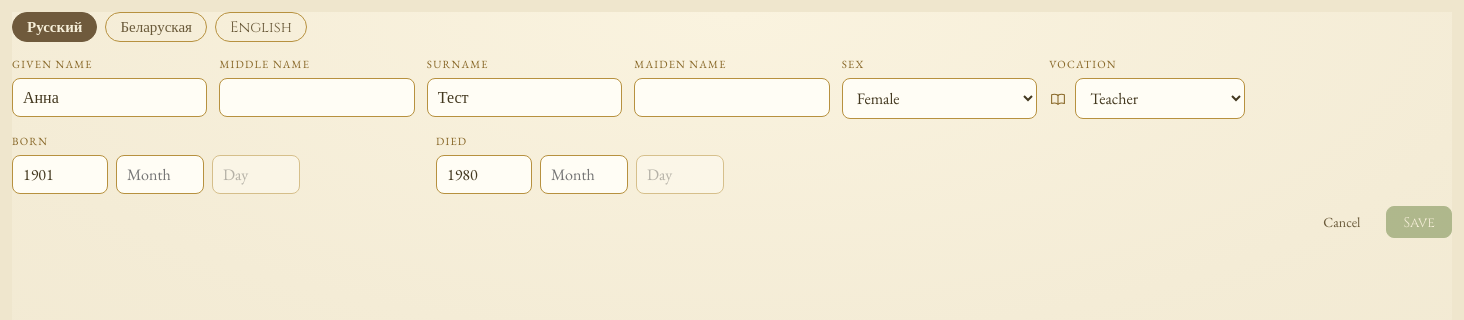
Test: MemberFieldsEditor › Save is disabled until a field is dirty
Expected: the button with test id "fields-save" is disabled, [1386,206,1452,238]
Replace the text in the number field with test id "field-birthYear" with "1902": (60, 174) [12,155,108,194]
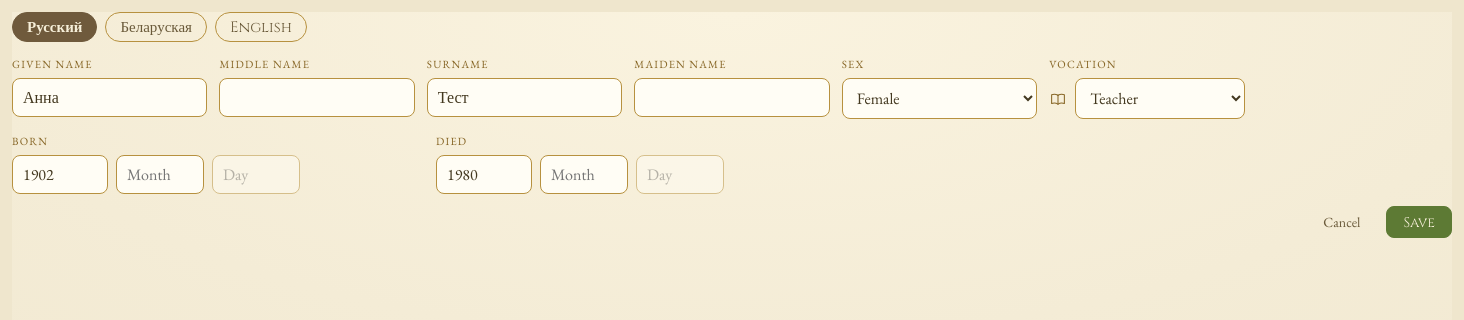
Now the button with test id "fields-save" is enabled, box [1386,206,1452,238]
